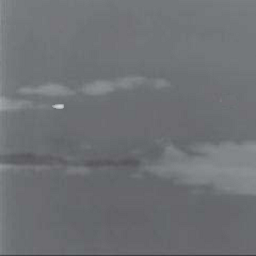Target: (49, 102, 64, 109)
